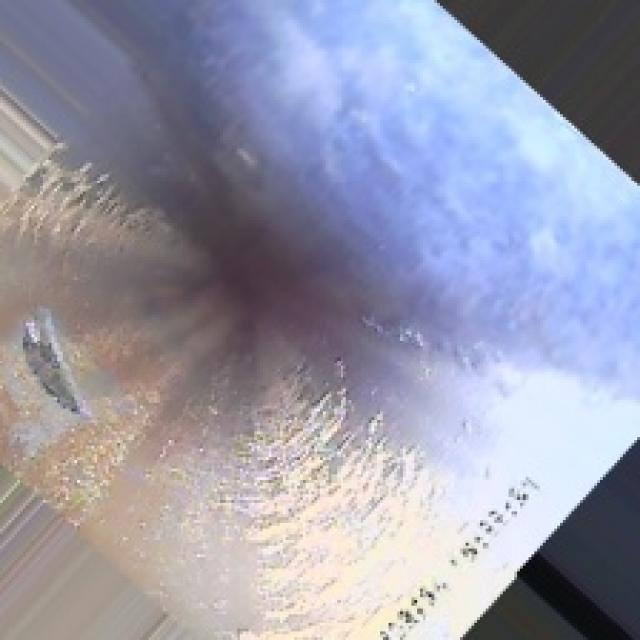pipe_surface_damage: (14, 303, 89, 420)
